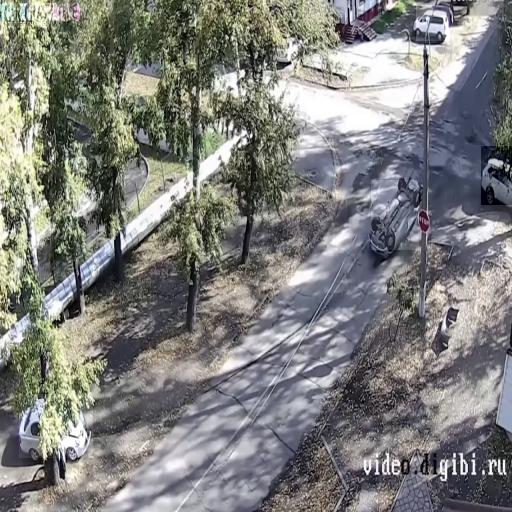小汽车: (19, 394, 93, 458), (371, 180, 419, 250), (481, 146, 512, 205), (416, 5, 450, 41)
